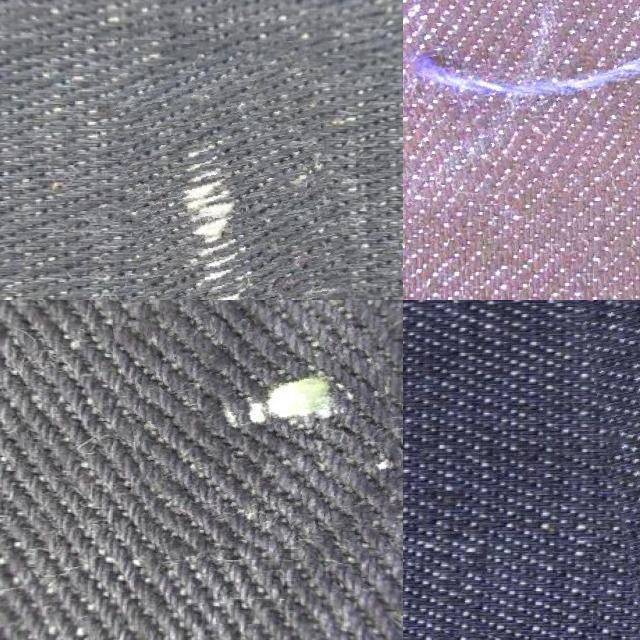Thread_other: (122, 300, 399, 551), (120, 46, 354, 300), (403, 0, 640, 193)
